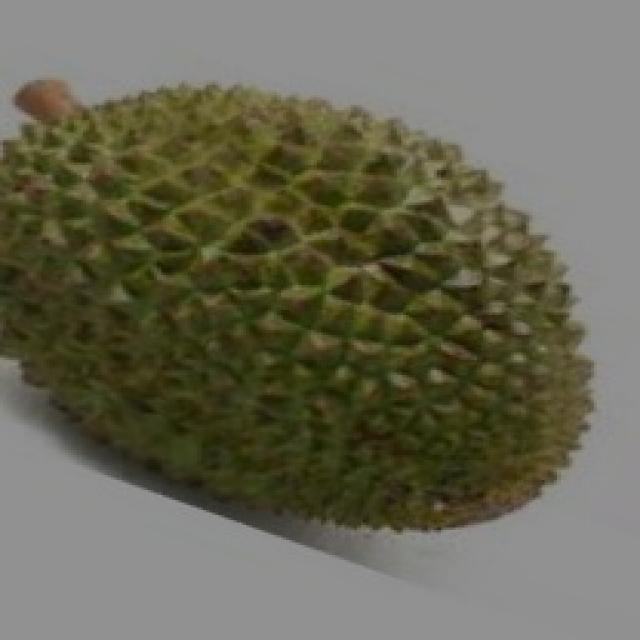fruit: (280, 183, 640, 595), (0, 218, 357, 610)
